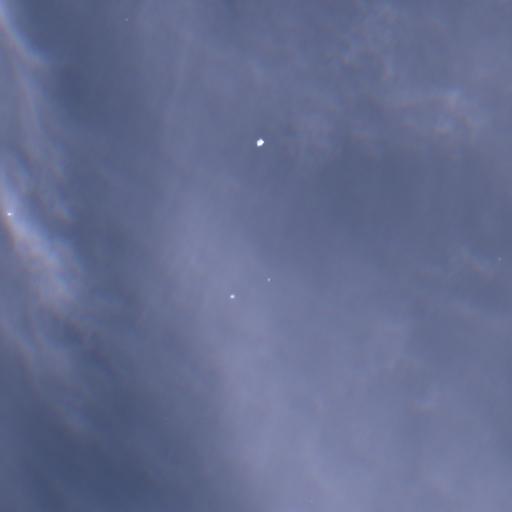Iceberg: (257, 137, 264, 146), (230, 294, 234, 298), (7, 212, 12, 215), (268, 278, 270, 281), (125, 18, 127, 20)
